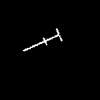double_crochet: (23, 29, 61, 50)
